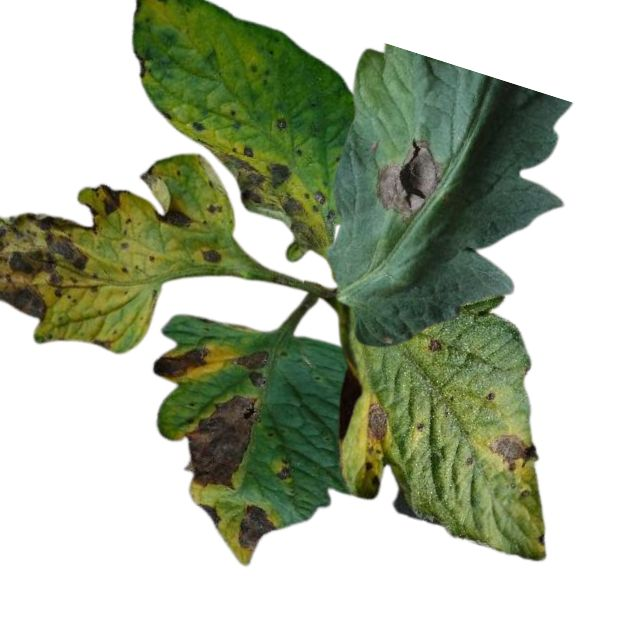Early_blight: (220, 143, 331, 257), (1, 207, 98, 319), (185, 395, 259, 491), (373, 137, 439, 215), (152, 342, 209, 380), (483, 431, 539, 469), (234, 503, 276, 552), (151, 203, 199, 232), (236, 349, 269, 389), (363, 401, 391, 446), (98, 179, 121, 215), (195, 501, 222, 528), (363, 456, 383, 487), (197, 246, 222, 265), (138, 163, 159, 185), (274, 456, 292, 479), (94, 336, 120, 351), (191, 113, 208, 133), (427, 334, 443, 354), (273, 116, 289, 131)
